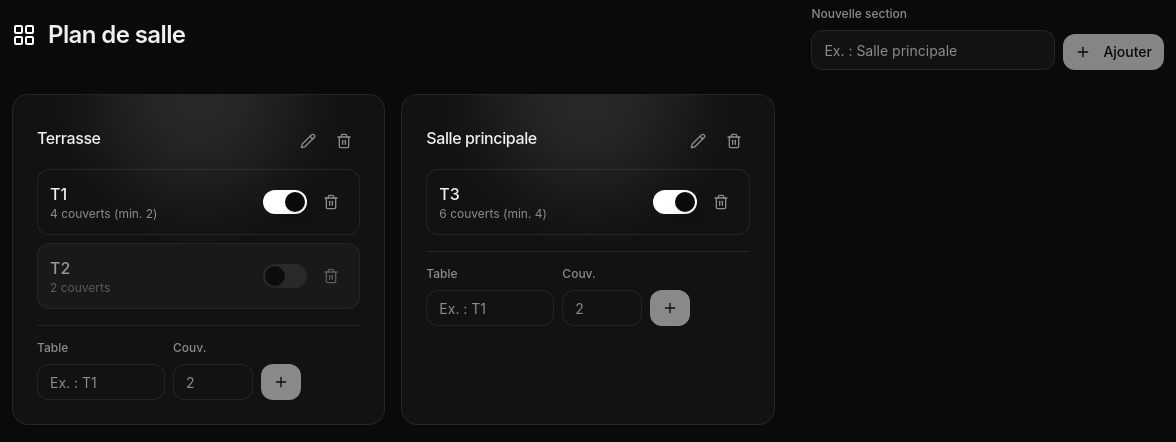
FloorPlanCrud › crée une table dans une section
This screenshot has width=1176, height=442.
Expected: the heading "Plan de salle" is shown, [48, 19, 185, 51]
Type "T4" into the field labelled "Table" below "(min. 4)" at (490, 308), box [426, 290, 554, 326]
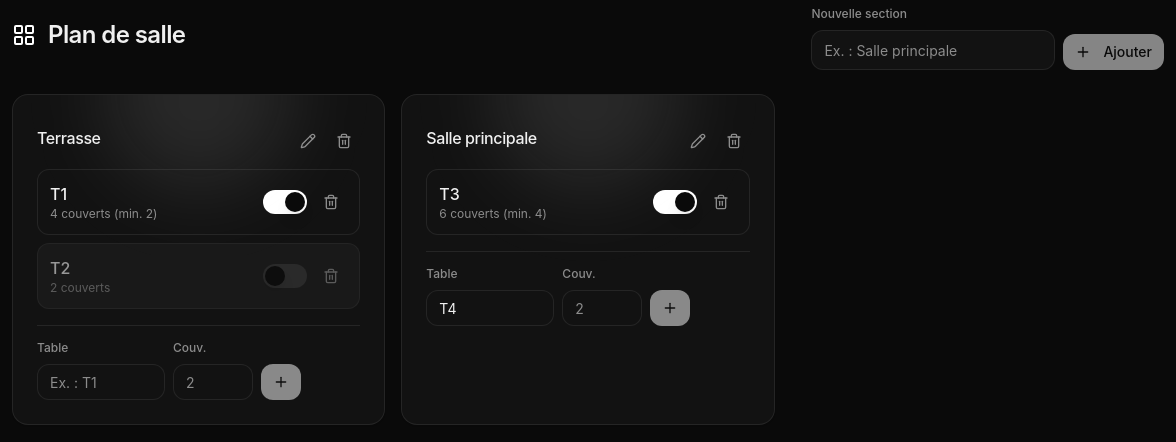
Type "8" into the number field labelled "Couv." below "(min. 4)" at (602, 308), box [562, 290, 642, 326]
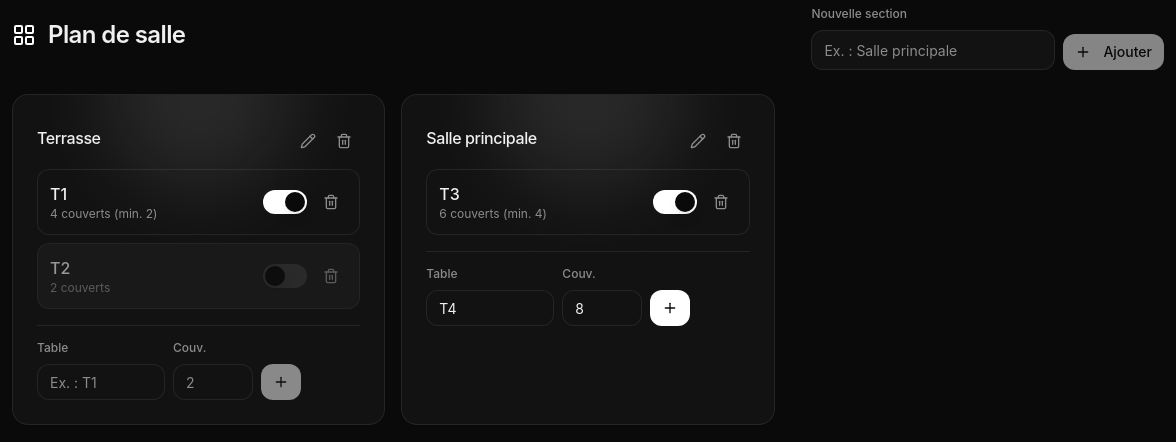
Submit the form labelled "Table" below "(min. 4)", box [426, 251, 750, 326]
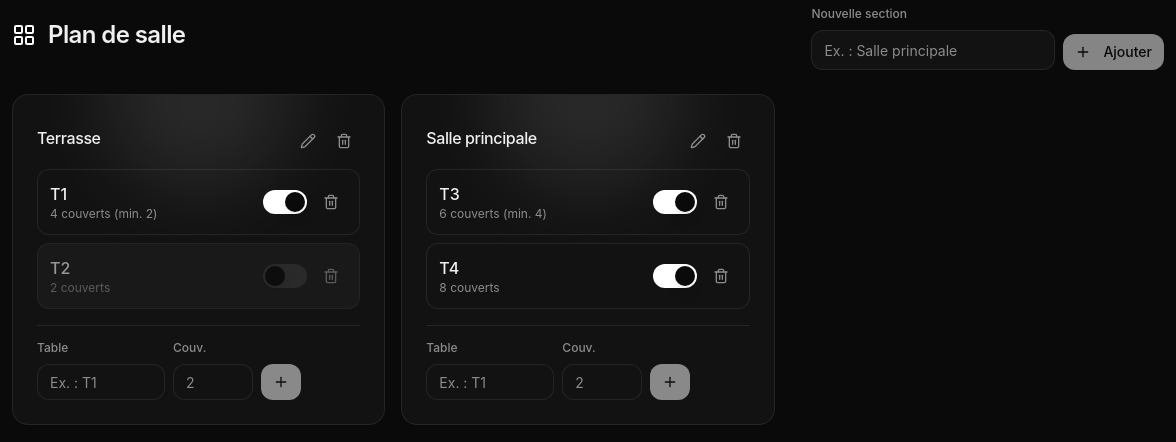
Expected: the text "T4" is shown, [439, 258, 459, 278]
Expected: the text "8 couverts" is shown, [439, 280, 500, 296]
